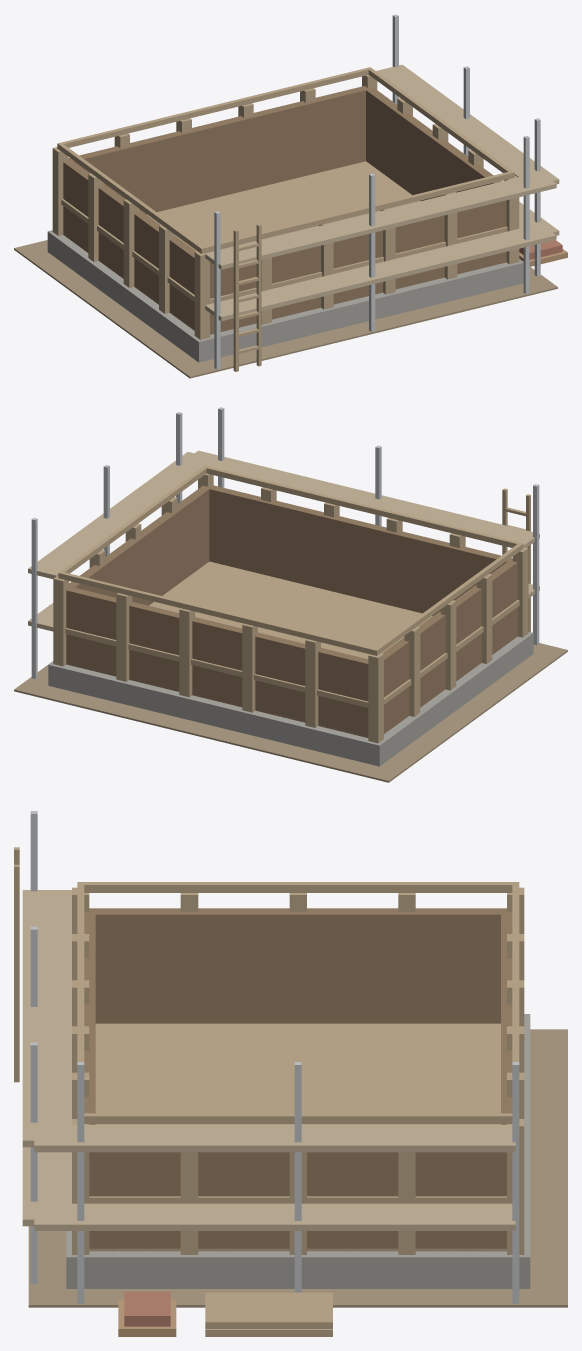
The model's file is horse_stable_site_7.glb.
3 renders of one model, top to bottom at view 1: azimuth 30°, elevation 25°; view 2: azimuth 150°, elevation 25°; view 3: azimuth 270°, elevation 25°, orthographic. The views are drawn at different scales.
Visible parts, largest first — view 1: body; view 2: body; view 3: body.
Boxes of the visible parts, x1=… form: body: x1=14, y1=14, x2=567, y2=378; body: x1=14, y1=407, x2=567, y2=782; body: x1=14, y1=811, x2=567, y2=1336.
Size of the model in its own units: 2.49 by 0.9192 by 1.91.
